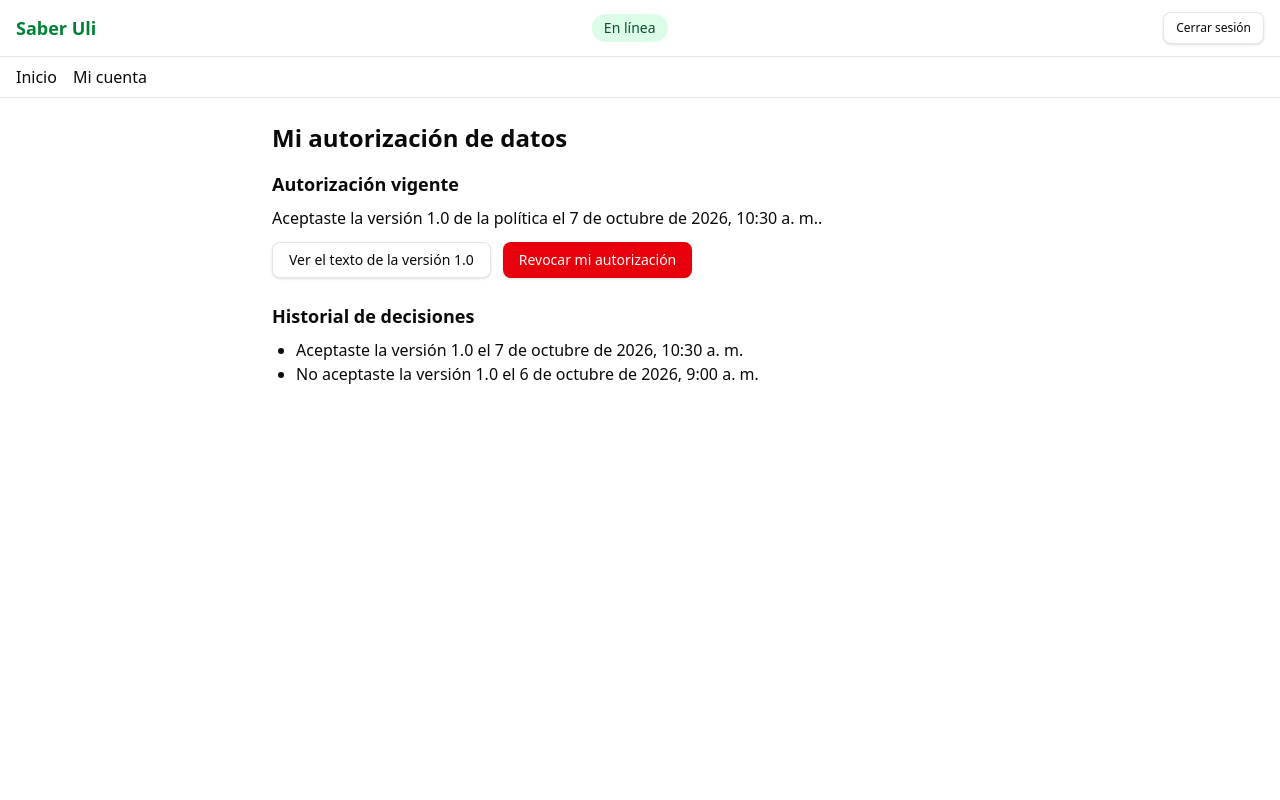
Test: mi autorización de datos › revocar pide confirmación y cancelar no revoca
Click the button "Revocar mi autorización": (598, 260) [503, 242, 692, 278]
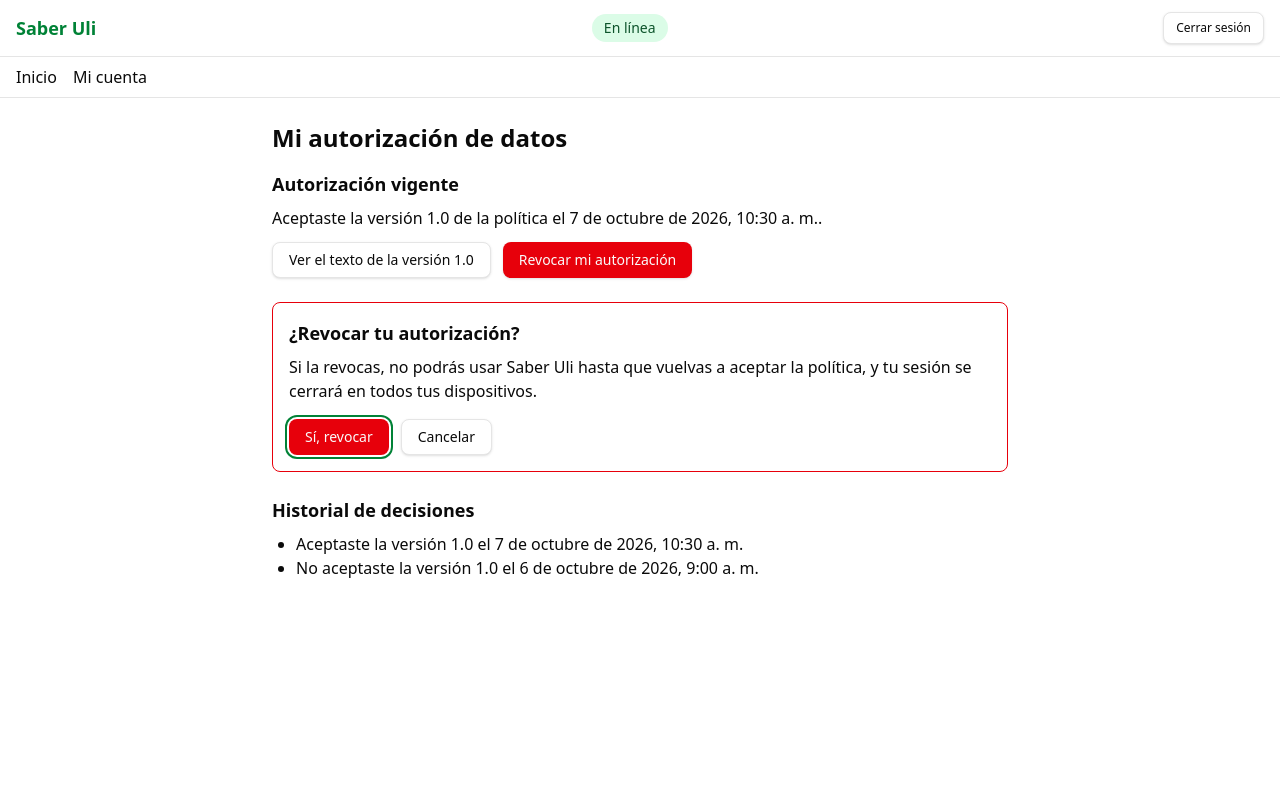
Check: the dialog "Revocar tu autorización" shows "no podrás usar Saber Uli", box [289, 356, 972, 402]
Click the button "Cancelar": (446, 437) [401, 419, 492, 455]
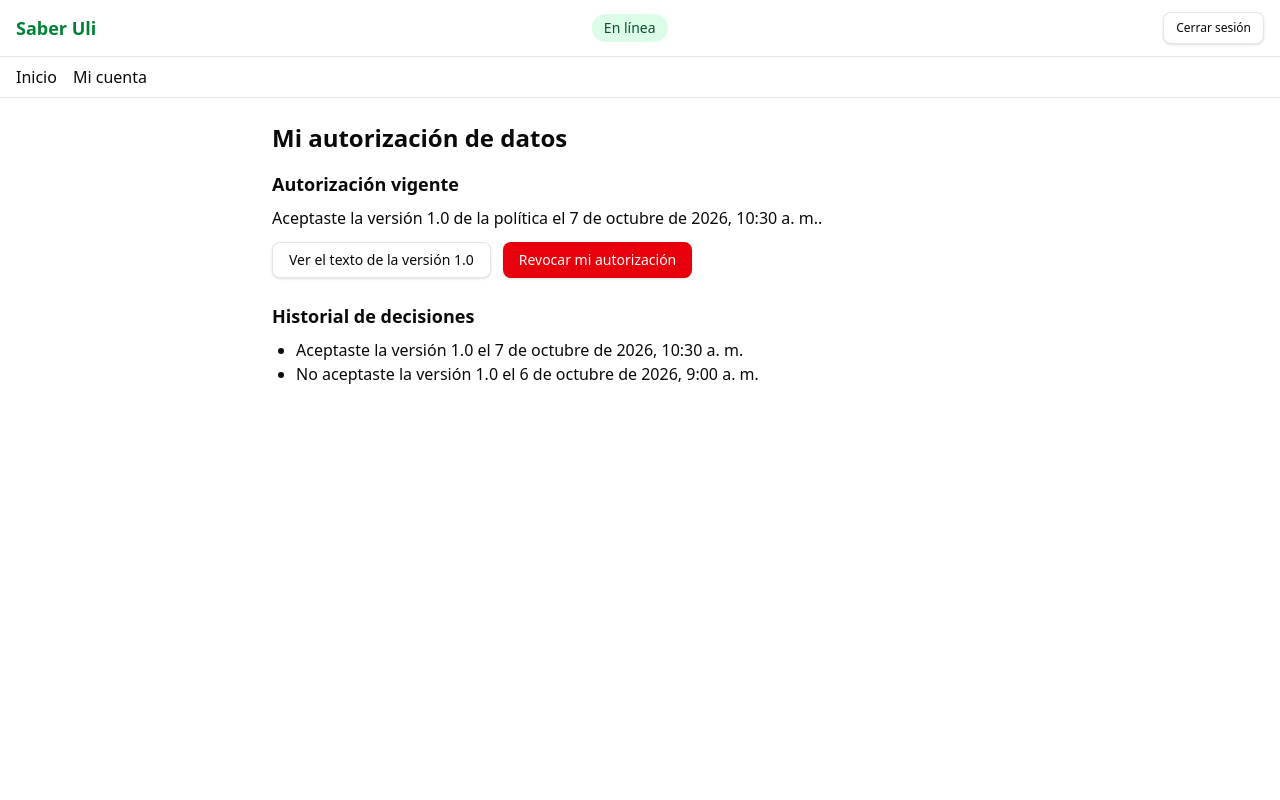
Check: the dialog is gone
